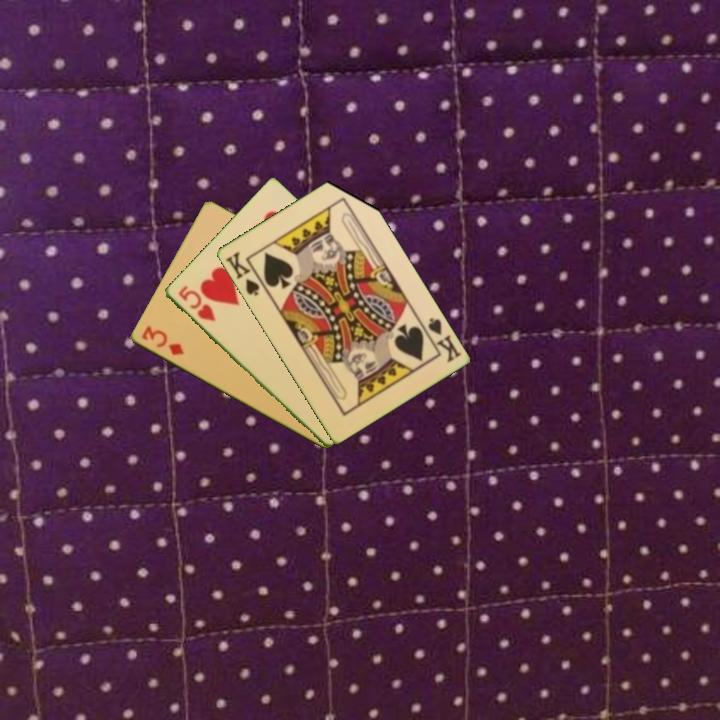3d: (137, 322, 187, 359)
5h: (174, 282, 218, 324)
Ks: (417, 314, 464, 366), (222, 248, 268, 299)
